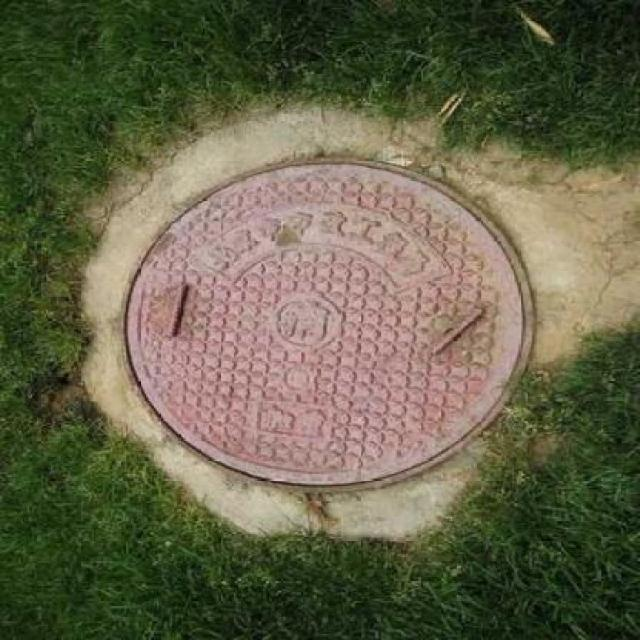Manhole: (110, 144, 556, 506)
